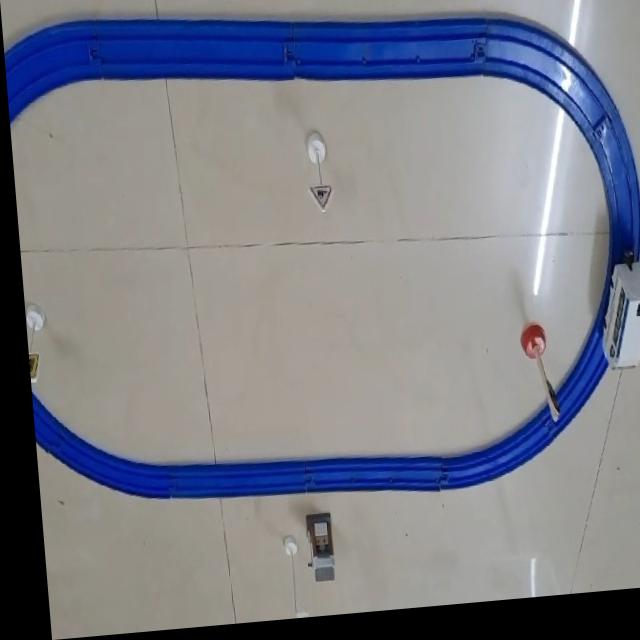bus: (582, 261, 640, 389)
